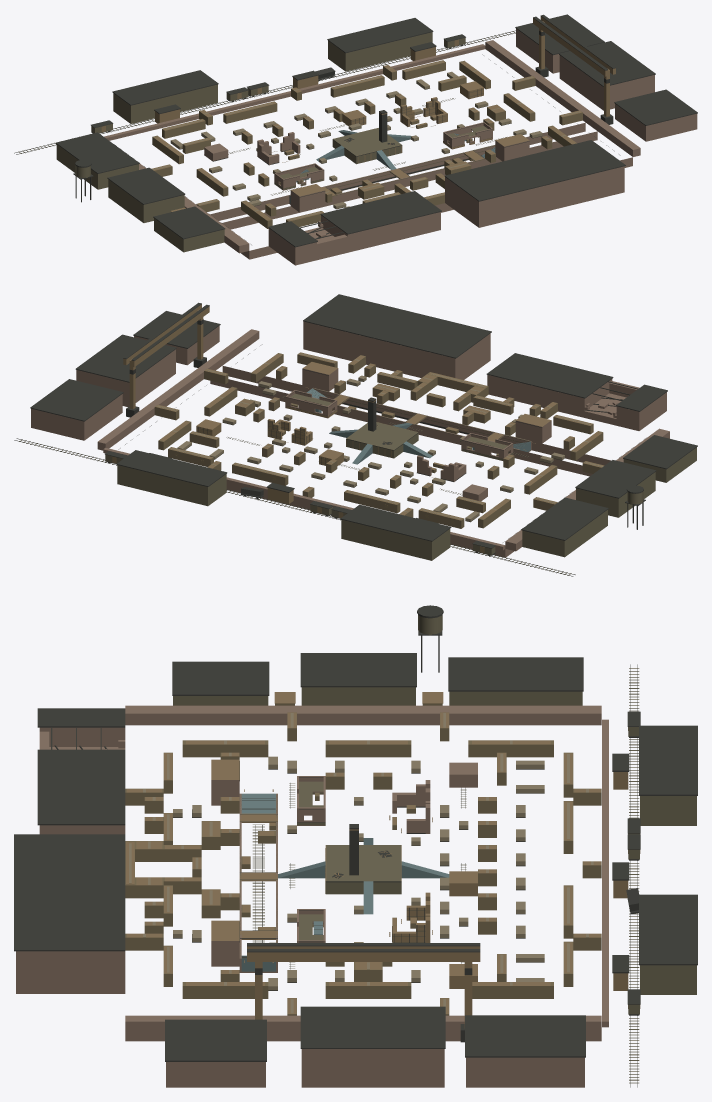
The model's file is switchyard-architecture.glb.
3 renders of one model, top to bottom at view 1: azimuth 30°, elevation 25°; view 2: azimuth 150°, elevation 25°; view 3: azimuth 270°, elevation 25°, orthographic. The views are drawn at different scales.
Visible parts, largest first — view 1: switchyard-original-architecture; view 2: switchyard-original-architecture; view 3: switchyard-original-architecture.
Part boxes in pixels (x1,y1,x2,y2): switchyard-original-architecture: (14,14,697,265); switchyard-original-architecture: (14,294,697,576); switchyard-original-architecture: (14,605,697,1087).
Bounding box in the file's own units: 211 × 24.6 × 144.
